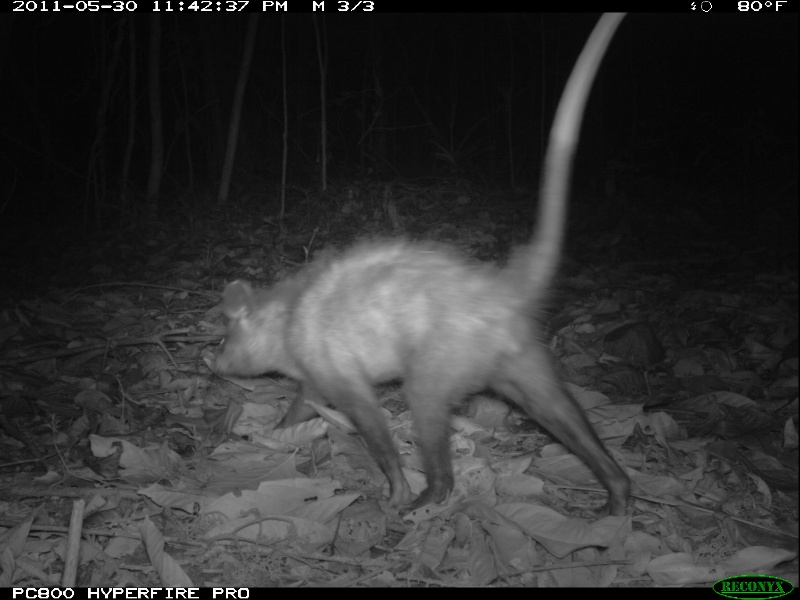opossum: (201, 14, 664, 527)
